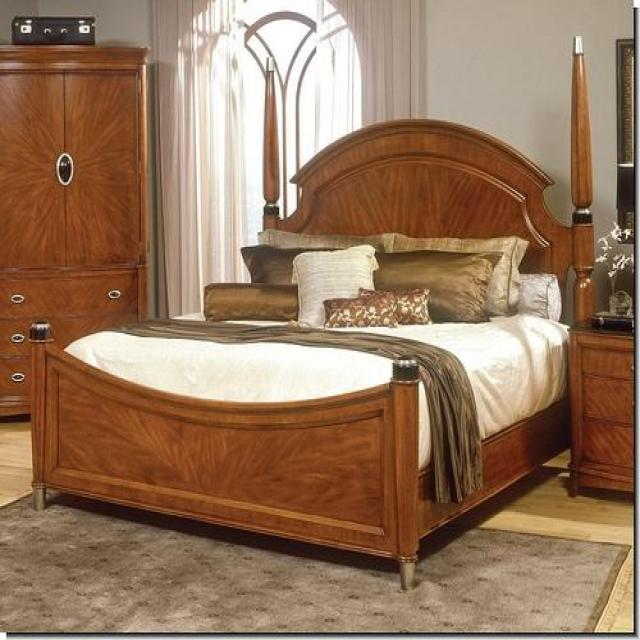bed: (28, 34, 595, 592)
